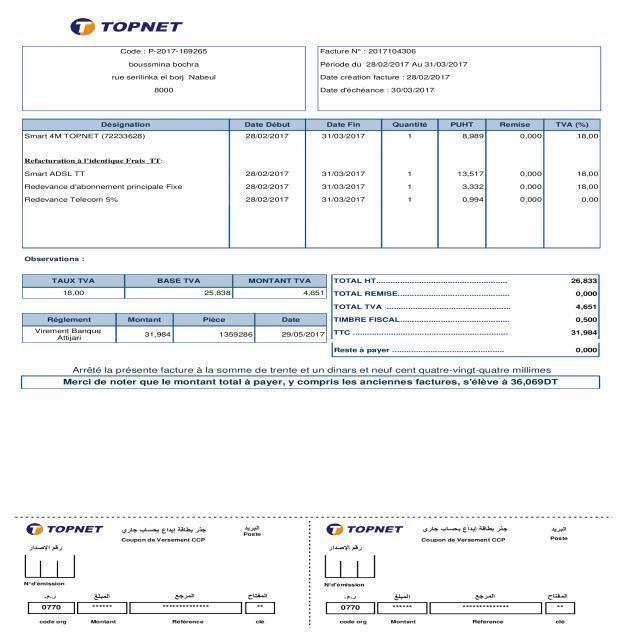paragraph: (24, 118, 601, 249), (332, 276, 601, 359), (23, 363, 600, 389), (317, 46, 473, 102), (109, 47, 223, 94), (67, 11, 188, 39), (22, 253, 87, 266)
table: (23, 315, 328, 344), (21, 272, 329, 300)
